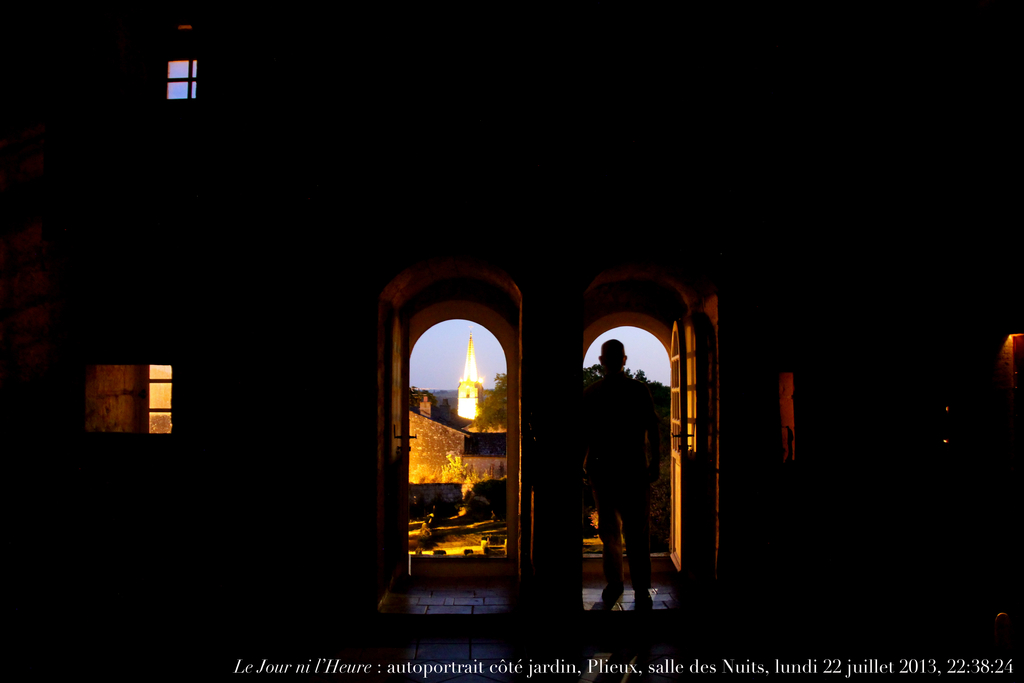Window: (81, 357, 175, 431), (162, 57, 206, 102)
